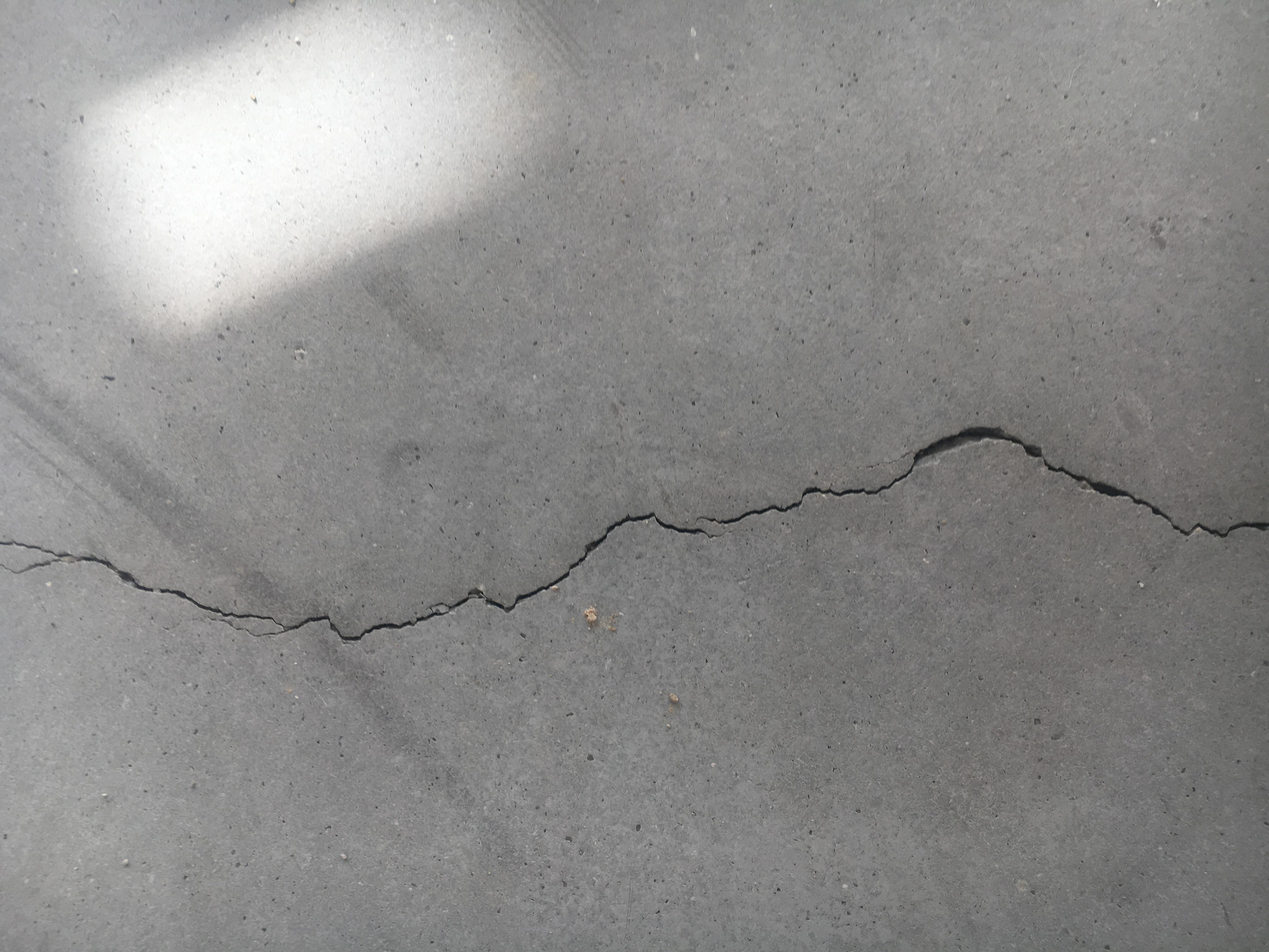Horizontal Settlement Crack: (3, 420, 1266, 647)
